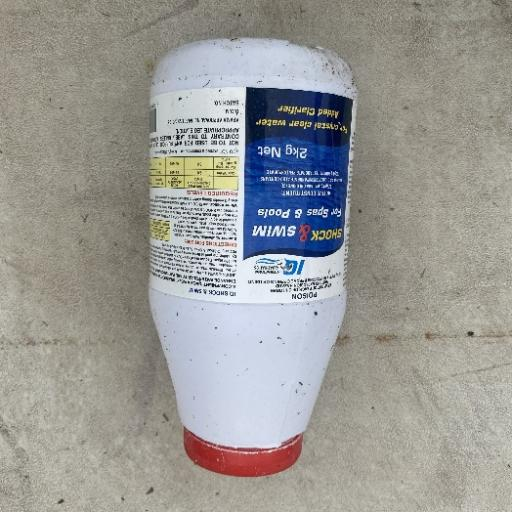Plastic: (144, 36, 358, 477)
